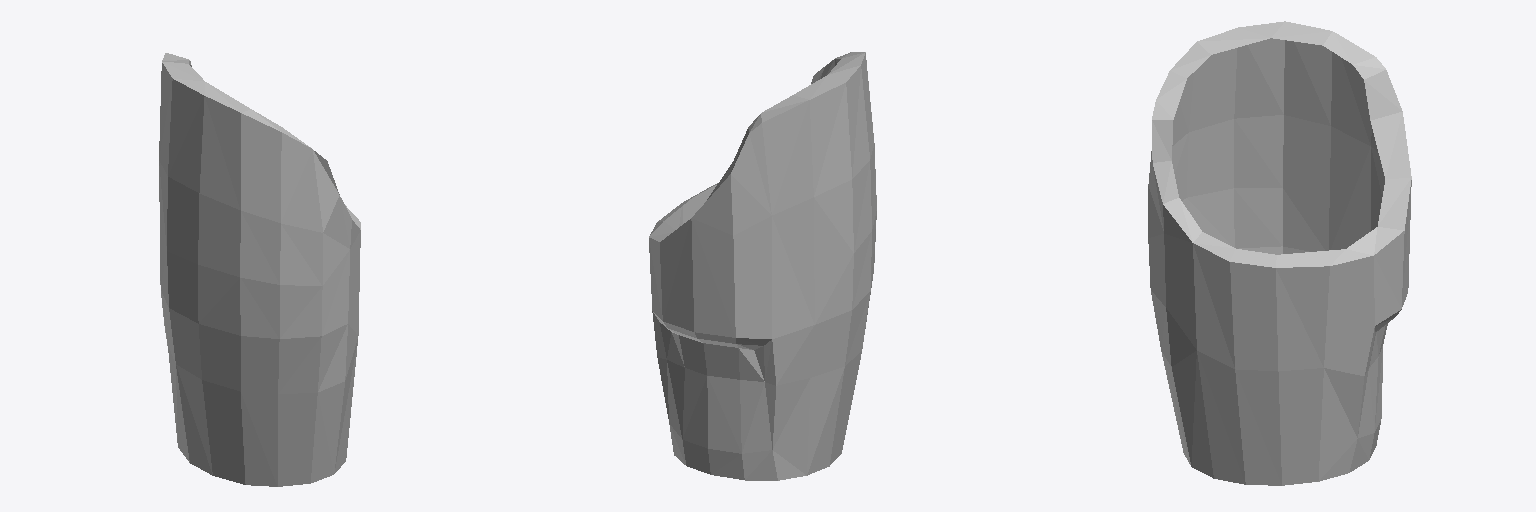
File: sd_uleg.obj
The picture shows the model from 3 angles: view 1: azimuth 30°, elevation 25°; view 2: azimuth 150°, elevation 25°; view 3: azimuth 270°, elevation 25°; orthographic projection.
Parts seen in each view (by area): view 1: Armor.APA_ref.smd.mesh_0.005_Armor.APA_ref.smd.mesh_0.008; view 2: Armor.APA_ref.smd.mesh_0.005_Armor.APA_ref.smd.mesh_0.008; view 3: Armor.APA_ref.smd.mesh_0.005_Armor.APA_ref.smd.mesh_0.008.
Part boxes in pixels (x1,y1,x2,y2): Armor.APA_ref.smd.mesh_0.005_Armor.APA_ref.smd.mesh_0.008: (159, 53, 360, 486); Armor.APA_ref.smd.mesh_0.005_Armor.APA_ref.smd.mesh_0.008: (649, 52, 876, 480); Armor.APA_ref.smd.mesh_0.005_Armor.APA_ref.smd.mesh_0.008: (1148, 21, 1411, 485).
Size of the model in its own units: 8.1 by 17.28 by 10.57.